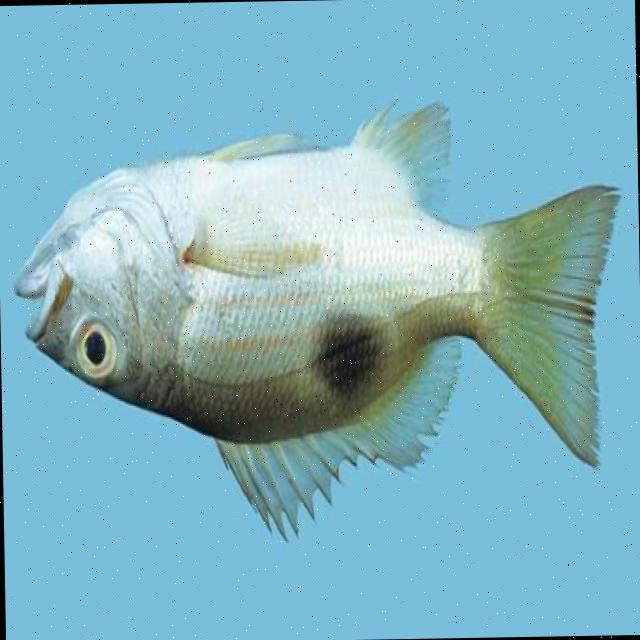ikan: (10, 94, 627, 550)
